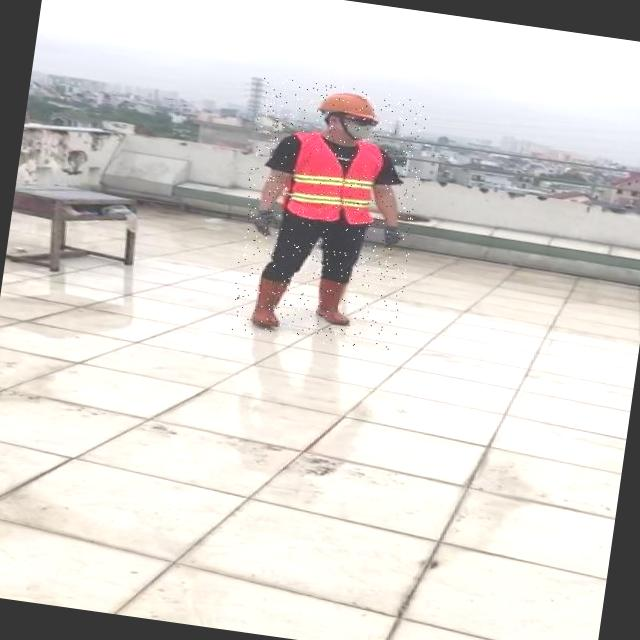boots: (247, 274, 292, 332), (312, 280, 358, 328)
gloves: (242, 198, 277, 242), (378, 212, 412, 255)
helmet: (316, 88, 381, 125)
vest: (284, 131, 383, 229)
